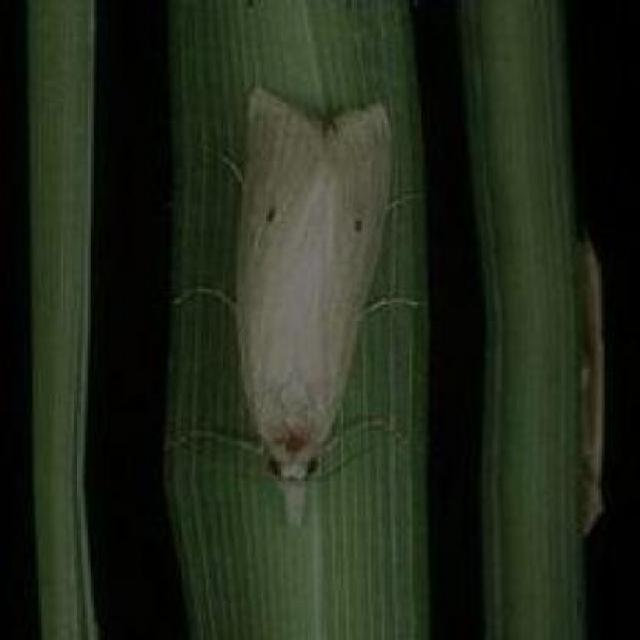stem-borer: (178, 84, 414, 530)
